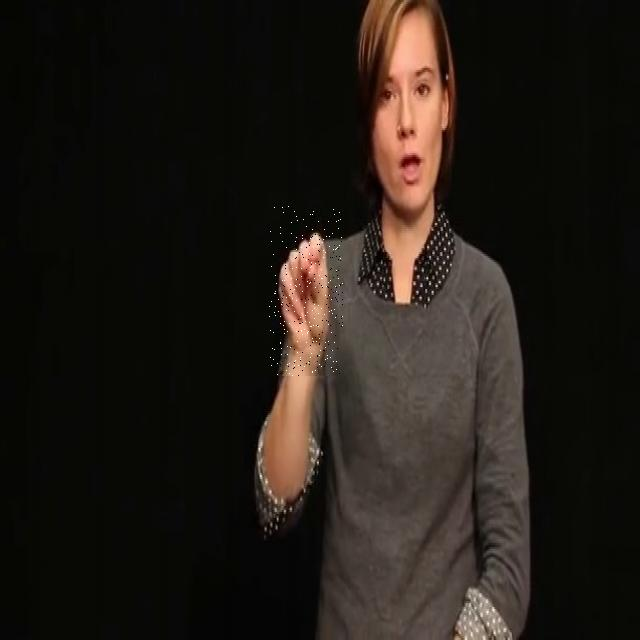no: (270, 206, 344, 376)
